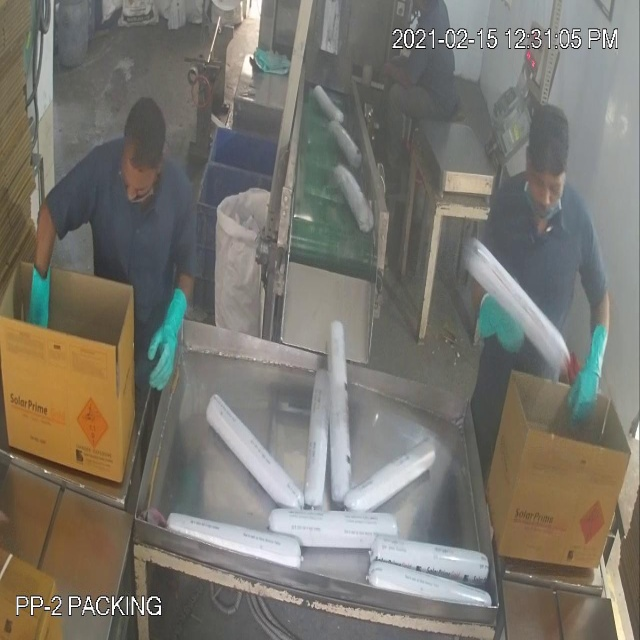Guantes: (131, 270, 198, 412), (563, 307, 618, 432)
Sin_guantes: (370, 44, 430, 107)
